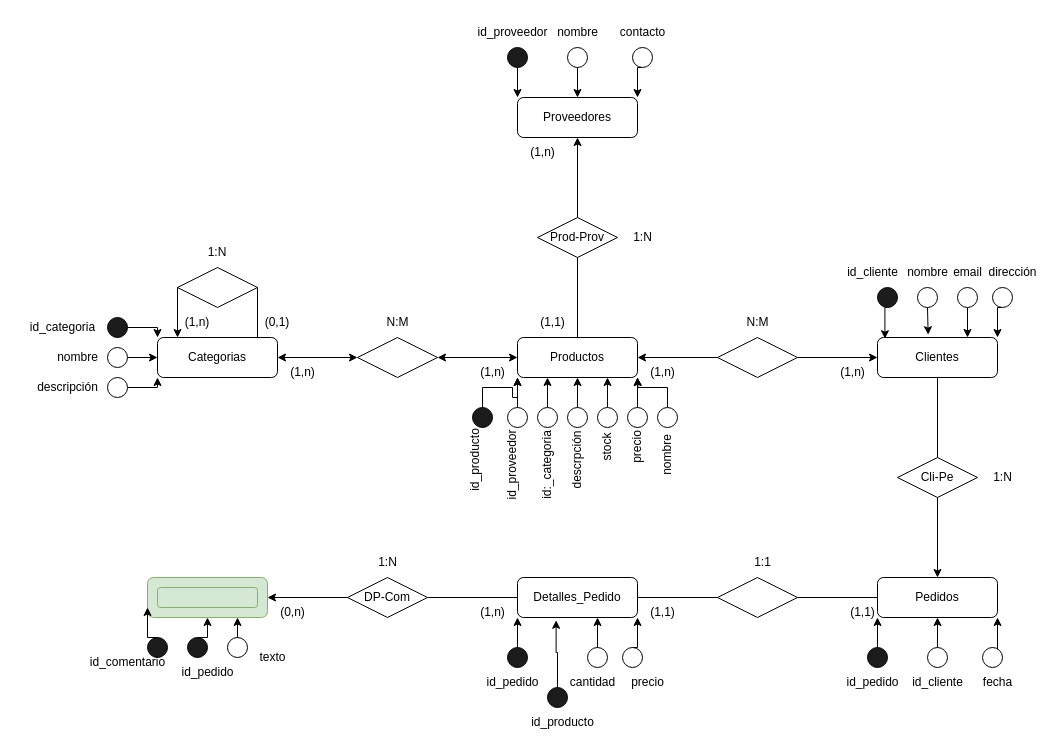
Some shapes in this 1064 by 754 pixel diagram are drawn without their labels. The shapes that lost their labels are listed below. From the top down, each one's box as (x1, y1, x2, y2) in pixels, then its label:
(176, 266, 258, 308): Ca-Cat
(356, 336, 438, 378): Prod-Ca
(716, 336, 798, 378): Prod-Cli
(156, 586, 258, 608): Comentarios
(716, 576, 798, 618): Pe_DP
